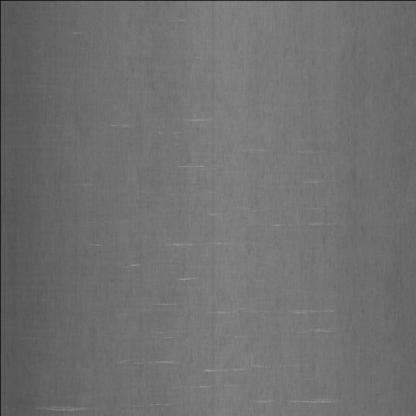waist_folding: (75, 50, 341, 400)
